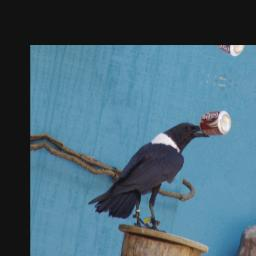Crow: (85, 102, 213, 241)
